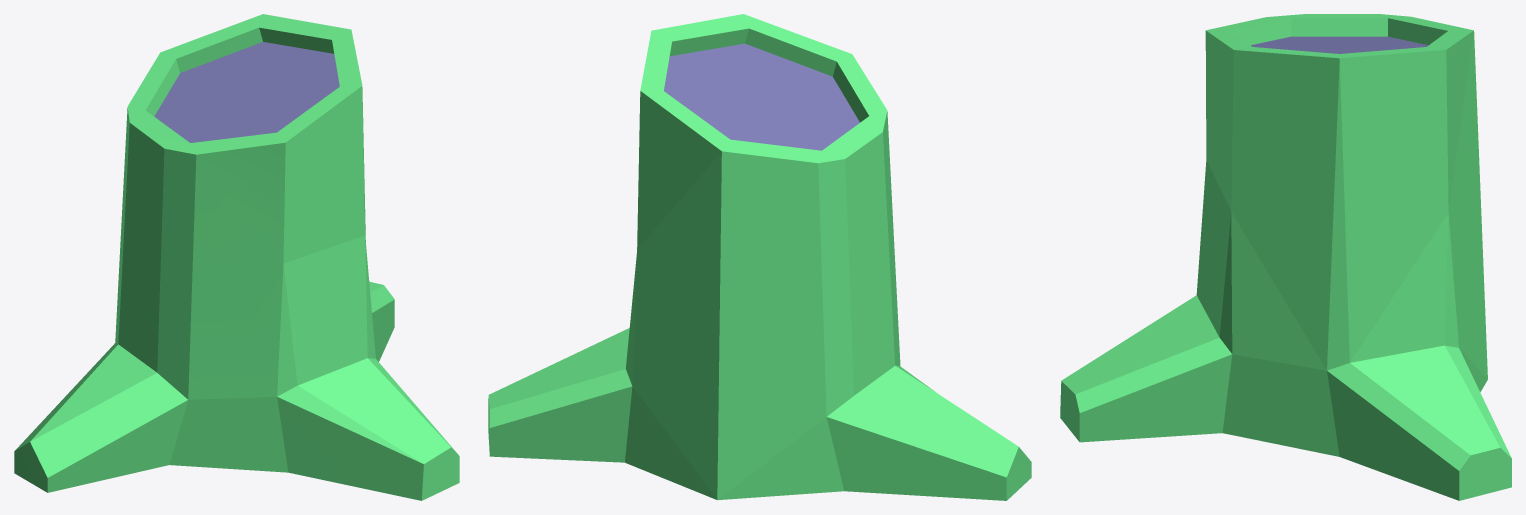
Rendered from SM_Stump.fbx.
3 views of the same model, side by side, from view 1: azimuth 30°, elevation 25°; view 2: azimuth 150°, elevation 25°; view 3: azimuth 270°, elevation 25° (orthographic). The views are drawn at different scales.
Parts seen in each view (by area): view 1: _12_tree; view 2: _12_tree; view 3: _12_tree.
Part boxes in pixels (box(x1,y1,x2,y2)): _12_tree: box(14, 14, 459, 500); _12_tree: box(488, 14, 1031, 500); _12_tree: box(1060, 14, 1511, 500).
Size of the model in its own units: 80.13 by 63.71 by 66.75.
